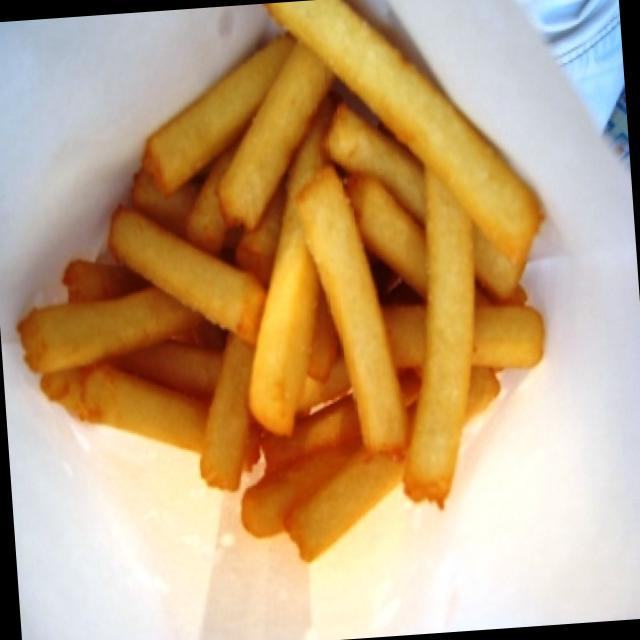French Fries: (24, 46, 564, 581)
